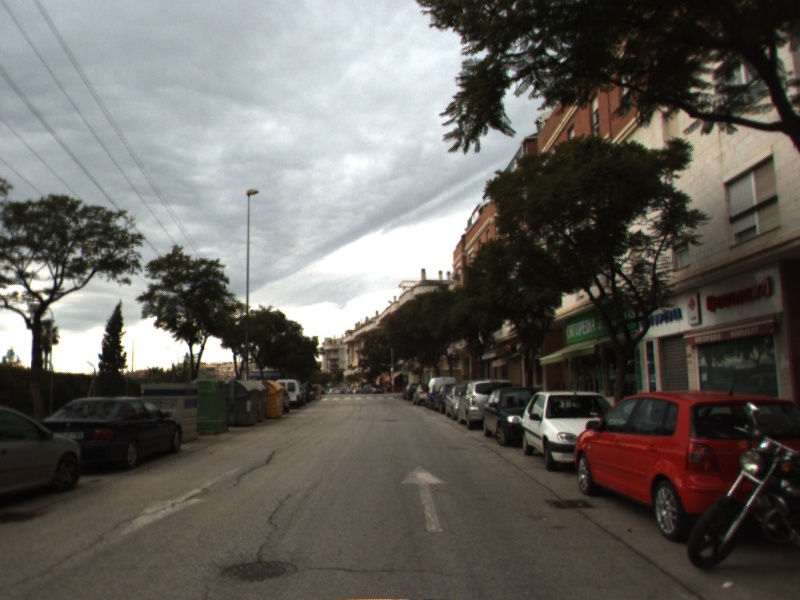STRAIGHT: (398, 460, 450, 535)
